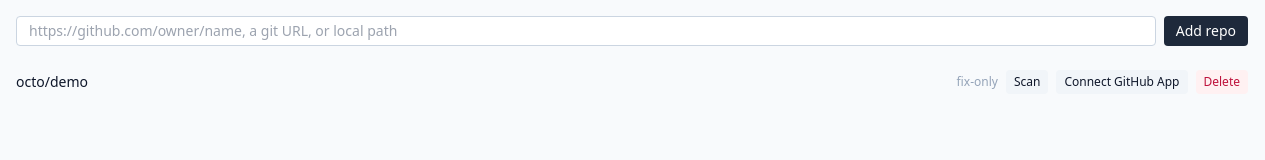
Test: surfaces an error when delete is blocked by a live job
Expected: the text "octo/demo" is shown, [16,72,88,92]
Click the button "Delete" at (1222,82), box [1196,70,1248,94]
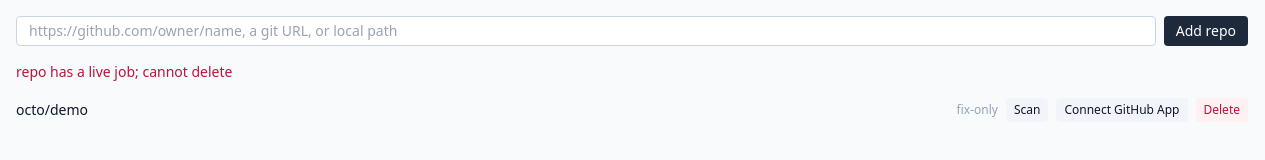
Expected: the text "repo has a live job; cannot delete" is shown, [16,62,232,81]
